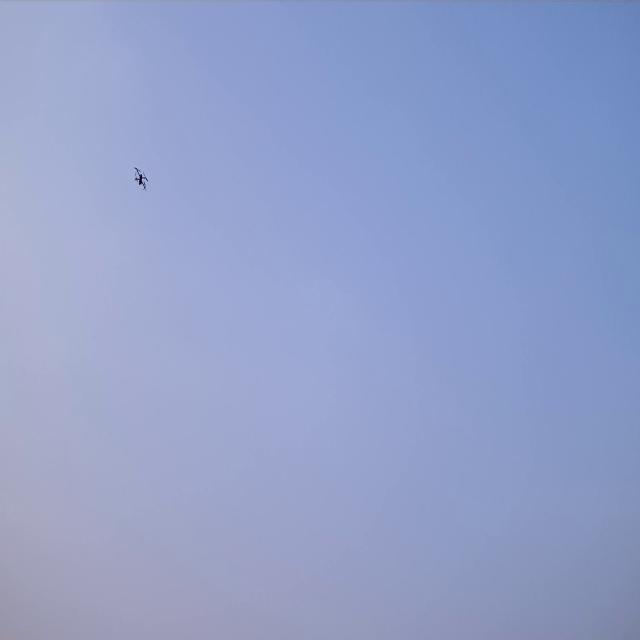UAV: (132, 165, 150, 192)
